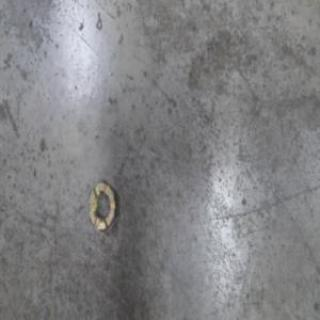Nuttrack_idkeyframe: (86, 179, 117, 233)
